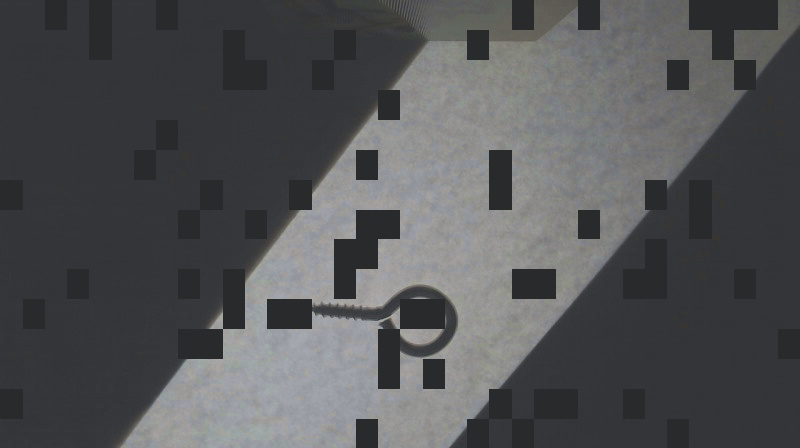O001: (300, 282, 461, 360)
